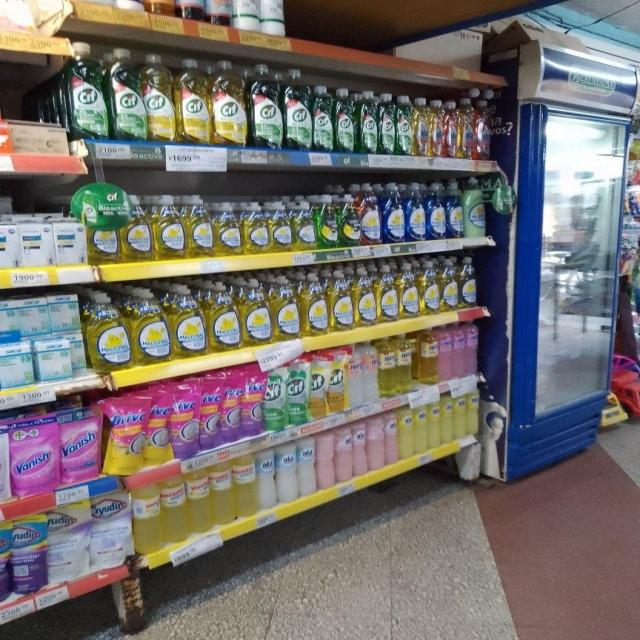ala_conc_amarillo: (412, 96, 429, 156), (430, 98, 444, 158)
ala_conc_rojo: (475, 98, 492, 160), (445, 99, 460, 159), (461, 97, 475, 160)
ala_crem_amarillo: (398, 408, 414, 459), (466, 388, 480, 438), (414, 403, 427, 454), (453, 390, 466, 440), (428, 398, 440, 451), (441, 393, 453, 444)
ala_crem_blanco: (276, 443, 296, 504), (257, 449, 276, 510), (298, 437, 316, 496)
ala_crem_rosado: (317, 432, 334, 490), (335, 426, 352, 483), (368, 416, 384, 471), (353, 421, 367, 477), (384, 412, 398, 466)
cif_conc_bot_amarilla: (211, 60, 247, 146), (176, 57, 209, 145), (144, 53, 175, 143)
cif_conc_botella_verde: (66, 41, 107, 140), (110, 47, 144, 141), (249, 63, 282, 149), (284, 68, 312, 151), (334, 88, 356, 153), (313, 85, 333, 152), (358, 90, 378, 154), (378, 92, 395, 155), (396, 94, 411, 156)
cif_conc_sachet_amarillo: (309, 352, 327, 418), (328, 349, 346, 413)
cif_conc_sachet_verde: (286, 358, 308, 426), (264, 363, 285, 431)
drive: (10, 417, 58, 495), (105, 394, 145, 475), (171, 381, 199, 460), (146, 387, 170, 466), (200, 374, 221, 450), (241, 367, 263, 438), (221, 371, 241, 444)
heroe: (362, 340, 379, 403), (379, 336, 396, 397), (397, 334, 414, 394), (419, 328, 437, 384), (438, 325, 452, 381), (453, 323, 466, 378), (466, 322, 479, 376)
magistral_con_amarillo: (172, 284, 206, 359), (208, 282, 240, 352), (153, 195, 184, 261), (121, 199, 152, 263), (242, 278, 270, 346), (272, 275, 299, 341), (186, 195, 213, 259), (301, 271, 327, 337), (88, 216, 119, 265), (214, 202, 241, 258), (329, 268, 352, 332), (242, 201, 268, 255), (354, 266, 375, 327), (377, 263, 397, 323), (269, 200, 291, 253), (398, 262, 418, 320), (292, 200, 314, 252), (459, 255, 479, 309), (420, 260, 439, 315), (440, 257, 458, 312)
magistral_con_azul: (382, 183, 404, 244), (405, 182, 425, 242), (426, 181, 445, 240), (446, 180, 464, 238)
magistral_con_crema: (464, 177, 486, 238), (360, 184, 381, 246)
magistral_con_verde: (316, 195, 337, 249), (338, 194, 358, 248)
vencedor: (134, 486, 162, 553), (163, 480, 187, 544), (188, 473, 211, 534), (212, 466, 234, 526), (234, 458, 256, 518)
